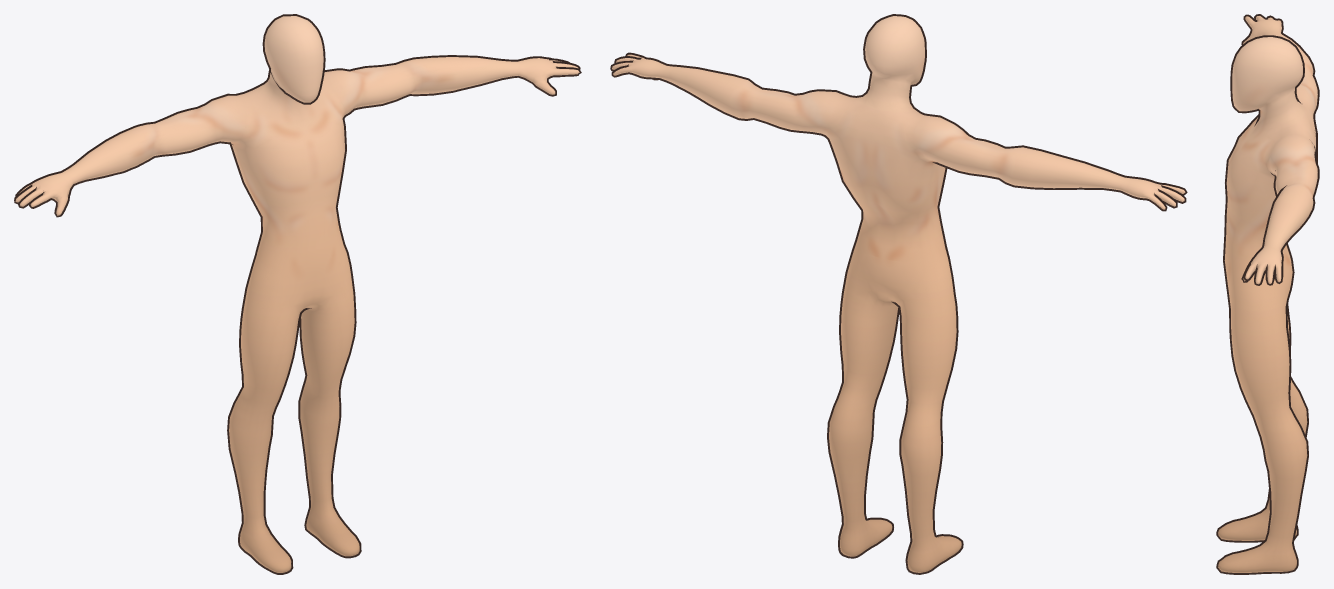
File: human_body_base_cartoon.glb
3 renders of one model, left to right at view 1: azimuth 30°, elevation 25°; view 2: azimuth 150°, elevation 25°; view 3: azimuth 270°, elevation 25°, orthographic. The views are drawn at different scales.
Parts seen in each view (by area): view 1: Body_OL_0; view 2: Body_OL_0; view 3: Body_OL_0.
Part boxes in pixels (x1,y1,x2,y2): Body_OL_0: (14,14,581,574); Body_OL_0: (610,14,1187,574); Body_OL_0: (1216,14,1319,574).
Bounding box in the file's own units: 1.67 × 1.51 × 0.2735.
2 materials, 1 textured.
